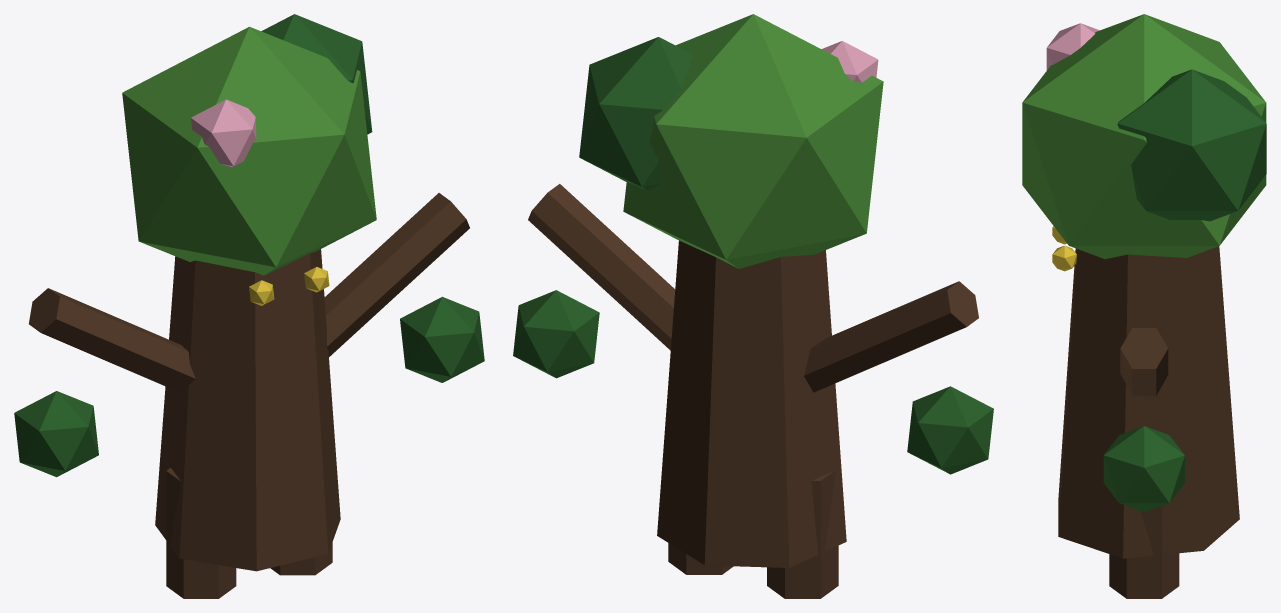
Rendered from SM_GZ_mon_forest_guardian.fbx.
The picture shows the model from 3 angles, left to right: view 1: azimuth 30°, elevation 25°; view 2: azimuth 150°, elevation 25°; view 3: azimuth 270°, elevation 25°; orthographic projection. The views are drawn at different scales.
Visible parts, largest first — view 1: SM_GZ_mon_forest_guardian; view 2: SM_GZ_mon_forest_guardian; view 3: SM_GZ_mon_forest_guardian.
Part boxes in pixels (x1=…): SM_GZ_mon_forest_guardian: x1=14, y1=14, x2=484, y2=598; SM_GZ_mon_forest_guardian: x1=513, y1=14, x2=993, y2=598; SM_GZ_mon_forest_guardian: x1=1022, y1=14, x2=1266, y2=598.
Bounding box in the file's own units: 334 × 380 × 153.
